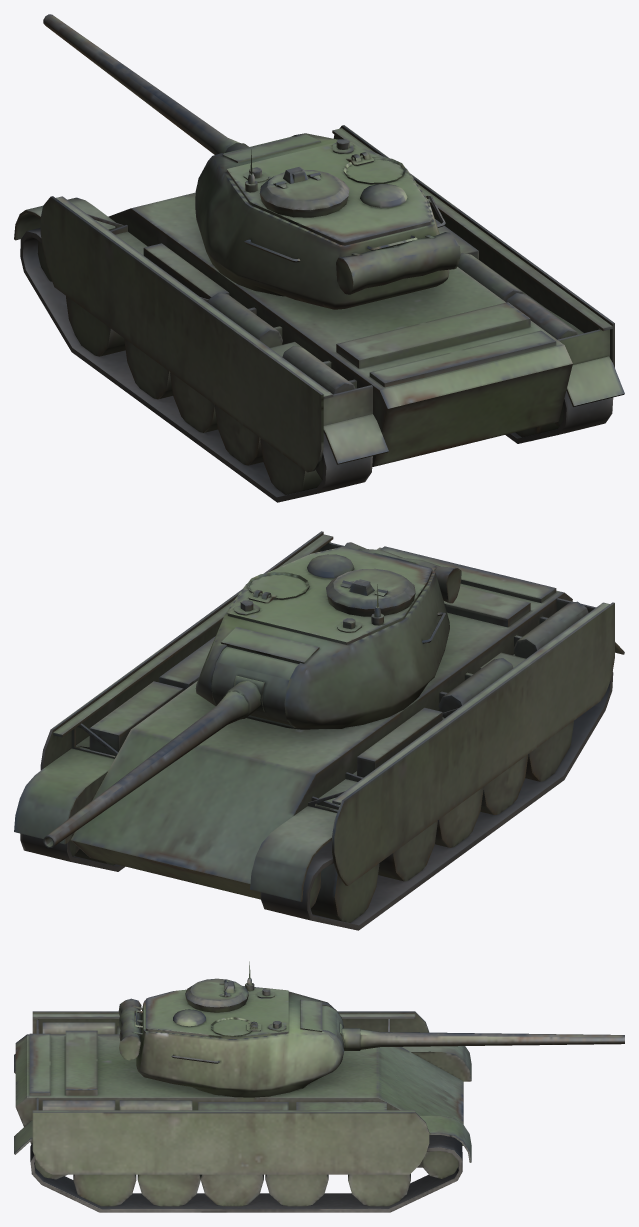
The picture shows the model from 3 angles, top to bottom: view 1: azimuth 30°, elevation 25°; view 2: azimuth 150°, elevation 25°; view 3: azimuth 270°, elevation 25°; orthographic projection. The views are drawn at different scales.
Visible parts, largest first — view 1: T-44-100 Hull, T-44-100 Turret; view 2: T-44-100 Hull, T-44-100 Turret; view 3: T-44-100 Hull, T-44-100 Turret.
Boxes of the visible parts, x1,y1,x2,y2 form: T-44-100 Hull: (14,125,624,502); T-44-100 Turret: (43,14,460,309); T-44-100 Hull: (14,531,624,930); T-44-100 Turret: (43,542,461,847); T-44-100 Hull: (14,1011,471,1212); T-44-100 Turret: (118,961,624,1097).
Size of the model in its own units: 3.18 by 2.67 by 8.11.
